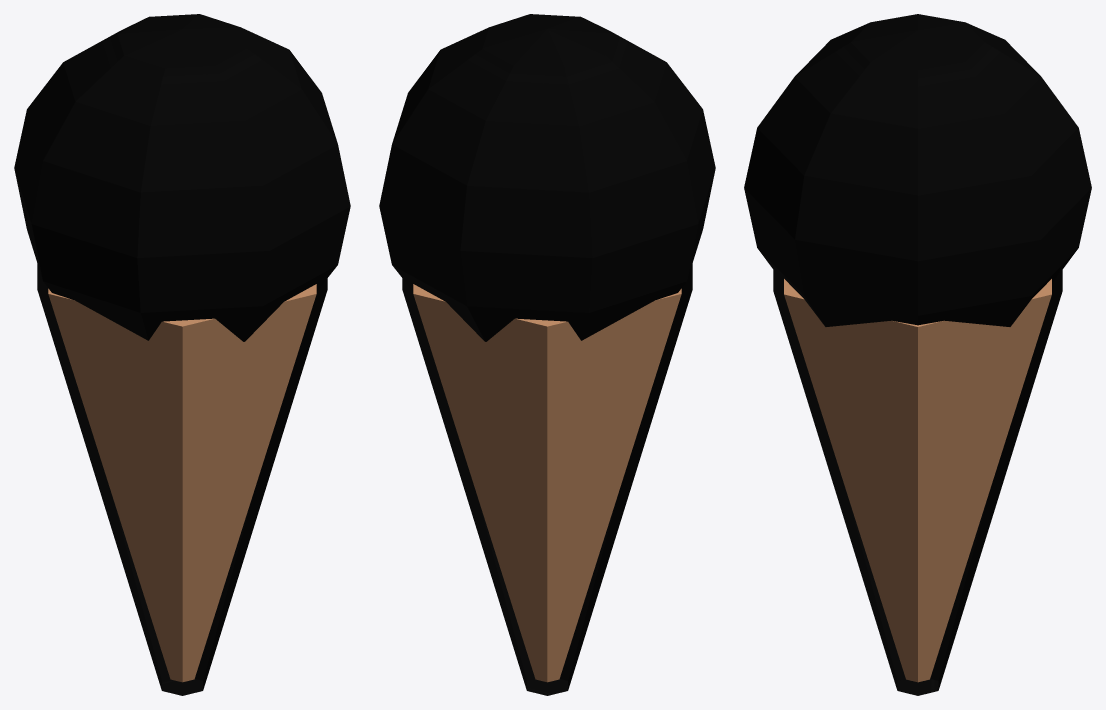
The model's file is ice cream.fbx.
3 views of the same model, side by side, from view 1: azimuth 30°, elevation 25°; view 2: azimuth 150°, elevation 25°; view 3: azimuth 270°, elevation 25° (orthographic).
Visible parts, largest first — view 1: pCylinder6; view 2: pCylinder6; view 3: pCylinder6.
Part boxes in pixels (left/top/right/bottom): pCylinder6: left=14, top=14, right=350, bottom=695; pCylinder6: left=379, top=14, right=715, bottom=695; pCylinder6: left=744, top=14, right=1091, bottom=695.
Bounding box in the file's own units: 1.08 × 2.25 × 1.08.
